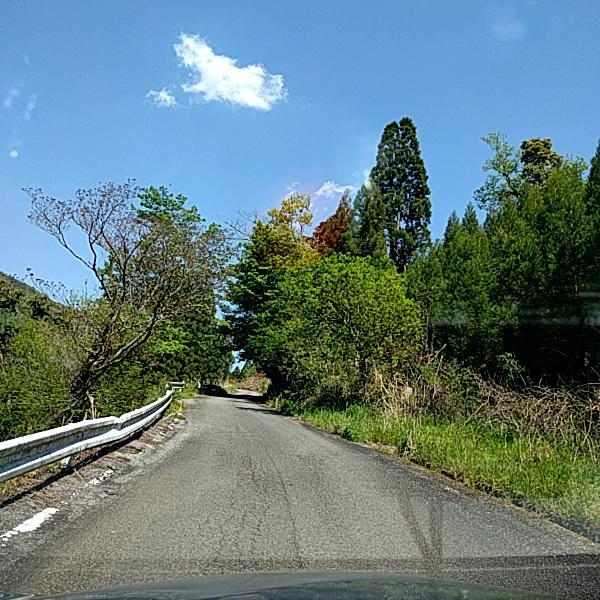D20: (205, 461, 278, 561)
